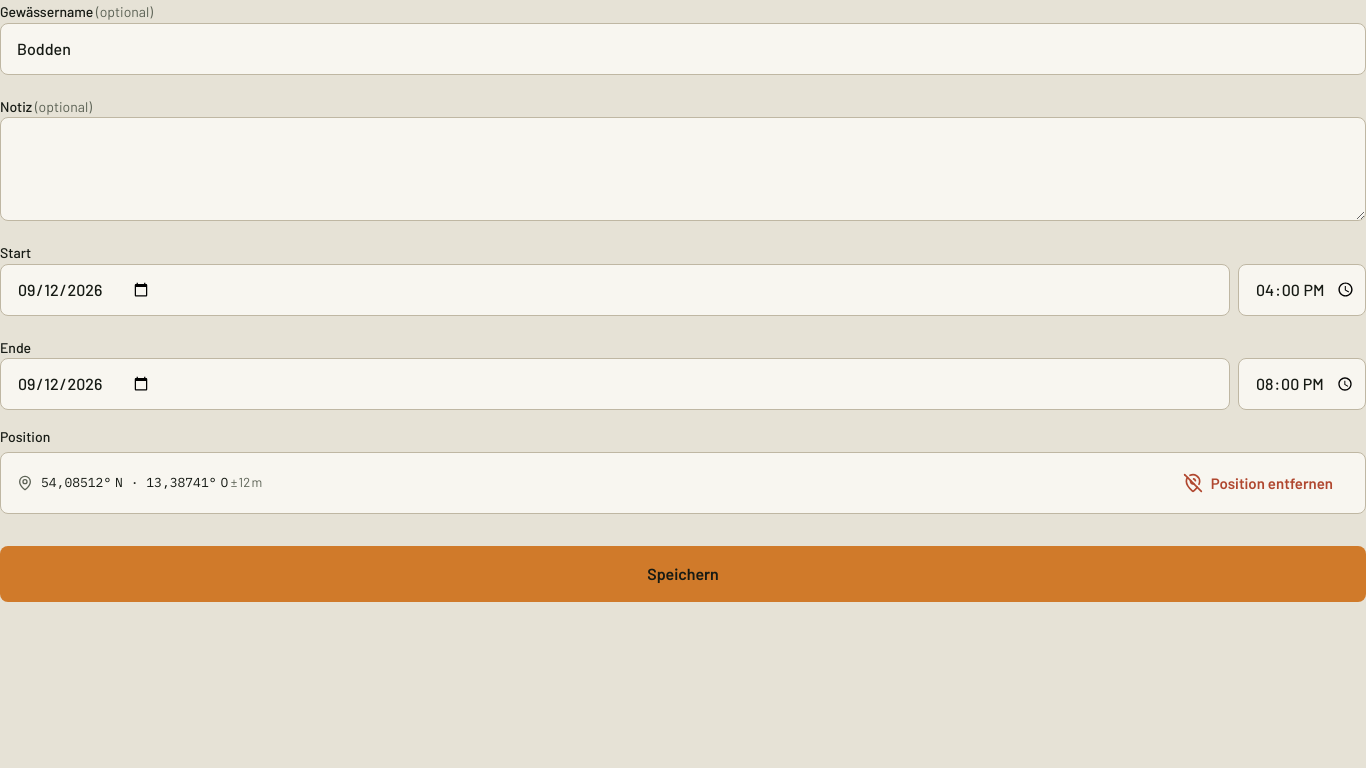
Test: SessionEditForm › removes the position after confirmation and shows „Ohne Position" (AC-38)
This screenshot has width=1366, height=768.
What coordinates should you click on to do the following:
click the button "Position entfernen"
I would click on:
 (1258, 483)
Its box is [1167, 461, 1349, 505].
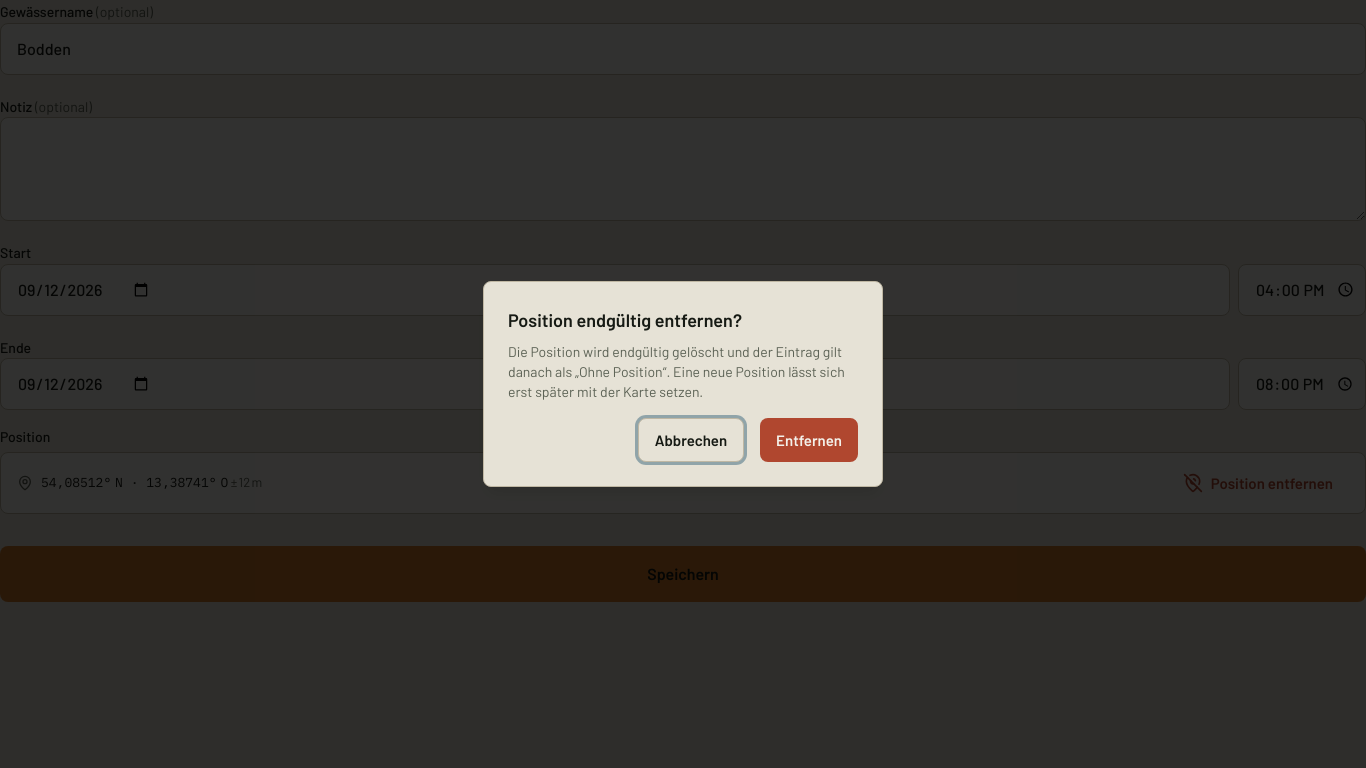
What coordinates should you click on to do the following:
click the button "Entfernen"
I would click on:
 (809, 440)
Its box is [760, 418, 858, 462].
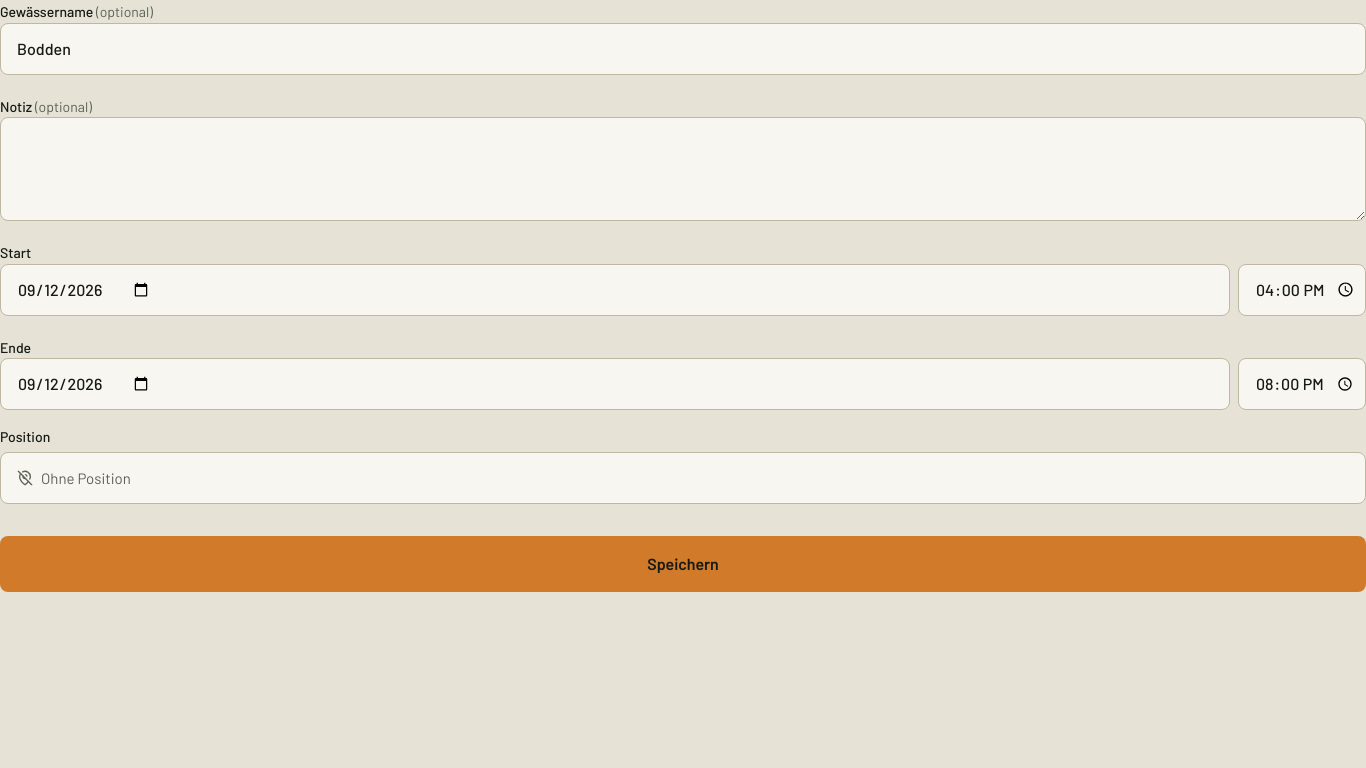
Now the text "Ohne Position" is shown, box [17, 467, 131, 489]
